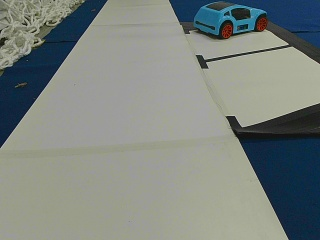car: (193, 3, 267, 37)
